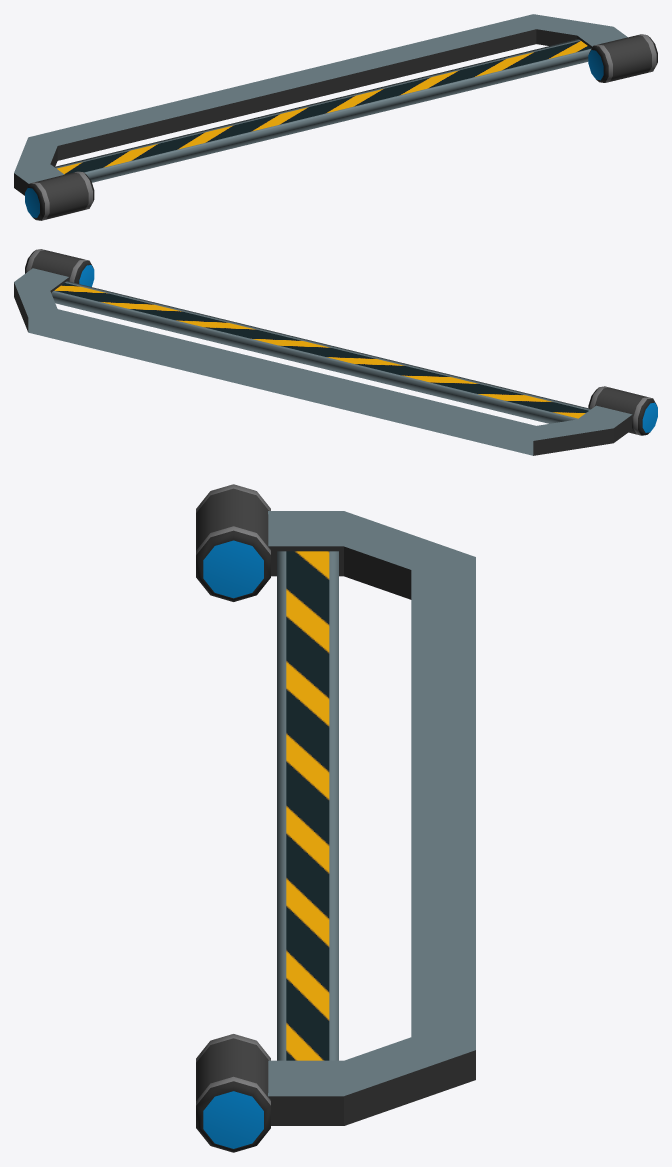
The model's file is Cargo_drone_005_grab_001.fbx.
3 views of the same model, one above another, from view 1: azimuth 30°, elevation 25°; view 2: azimuth 150°, elevation 25°; view 3: azimuth 270°, elevation 25° (orthographic). The views are drawn at different scales.
Parts seen in each view (by area): view 1: Cargo_drone_005_grab_001; view 2: Cargo_drone_005_grab_001; view 3: Cargo_drone_005_grab_001.
Part boxes in pixels (<box>): Cargo_drone_005_grab_001: <box>14,14,657,220</box>; Cargo_drone_005_grab_001: <box>14,249,657,455</box>; Cargo_drone_005_grab_001: <box>196,484,475,1152</box>.
Size of the model in its own units: 349 by 68.39 by 19.44.
